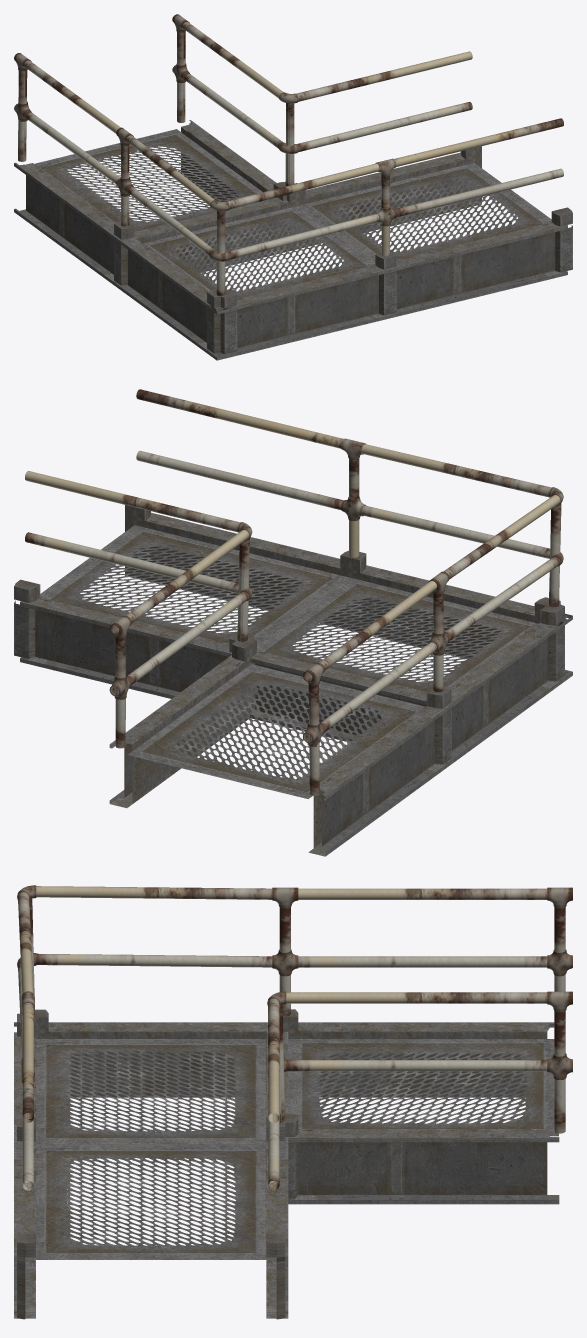
Rendered from upper_platform_Corner_opposite.fbx.
3 views of the same model, one above another, from view 1: azimuth 30°, elevation 25°; view 2: azimuth 150°, elevation 25°; view 3: azimuth 270°, elevation 25° (orthographic). The views are drawn at different scales.
Visible parts, largest first — view 1: upper_platform_Corner_opposite; view 2: upper_platform_Corner_opposite; view 3: upper_platform_Corner_opposite.
Part boxes in pixels (x1,y1,x2,y2): upper_platform_Corner_opposite: (14,14,572,360); upper_platform_Corner_opposite: (14,389,572,856); upper_platform_Corner_opposite: (14,885,572,1319).
Bounding box in the file's own units: 407 × 166 × 409.
